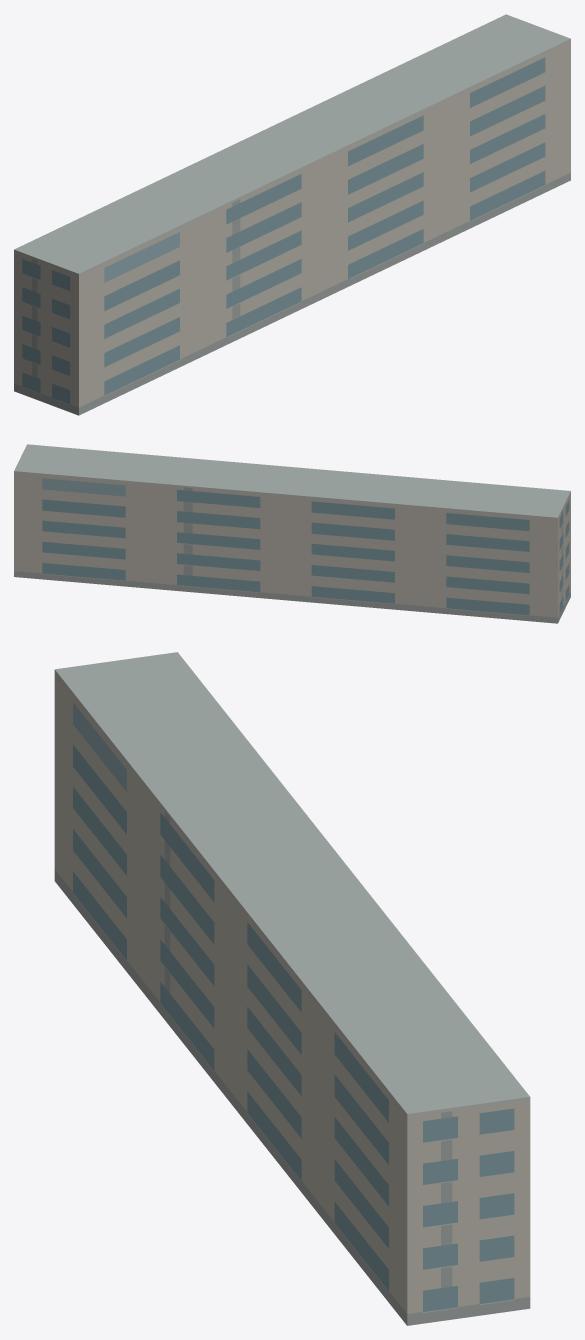
File: survey-upis-33034624.glb
3 renders of one model, top to bottom at view 1: azimuth 30°, elevation 25°; view 2: azimuth 150°, elevation 25°; view 3: azimuth 270°, elevation 25°, orthographic. The views are drawn at different scales.
Visible parts, largest first — view 1: survey-upis-33034624.tmp; view 2: survey-upis-33034624.tmp; view 3: survey-upis-33034624.tmp.
Boxes of the visible parts, left/top/right/bottom form: survey-upis-33034624.tmp: left=14, top=14, right=570, bottom=415; survey-upis-33034624.tmp: left=14, top=444, right=570, bottom=623; survey-upis-33034624.tmp: left=54, top=652, right=530, bottom=1325.
Size of the model in its own units: 71.36 by 15.25 by 31.04.
